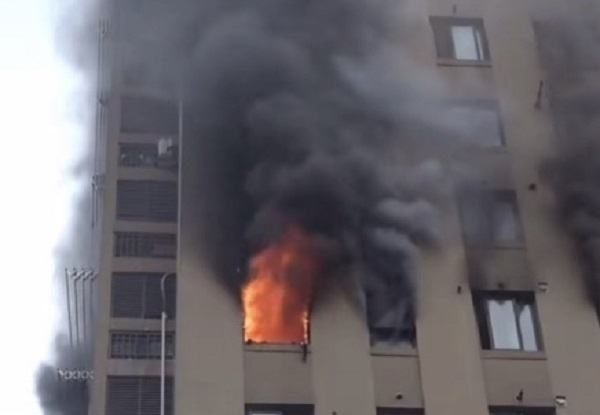fire: (238, 237, 316, 346)
